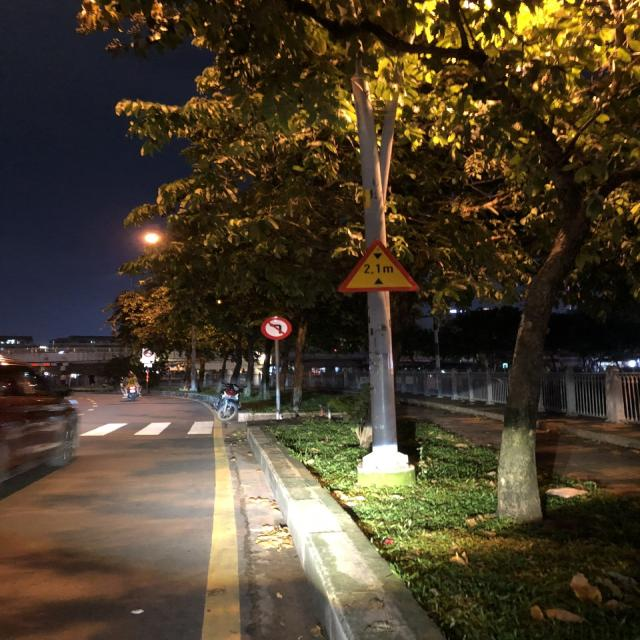Bien bao cam re trai: (258, 309, 294, 340)
Bien bao chieu cao tinh khong thuc te: (326, 237, 436, 302)
